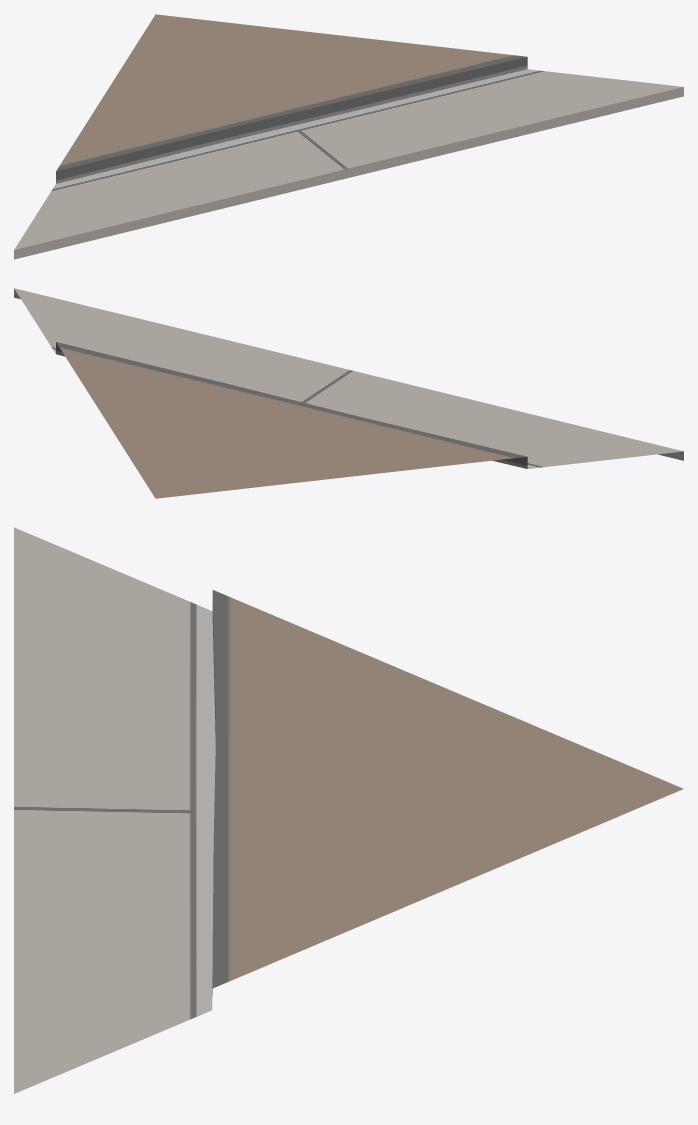
Rendered from island_45_mesh.fbx.
The picture shows the model from 3 angles, top to bottom: view 1: azimuth 30°, elevation 25°; view 2: azimuth 150°, elevation 25°; view 3: azimuth 270°, elevation 25°; orthographic projection. The views are drawn at different scales.
Parts seen in each view (by area): view 1: _mesh_45; view 2: _mesh_45; view 3: _mesh_45.
Part boxes in pixels (bbox=[...]): _mesh_45: bbox=[14, 14, 683, 259]; _mesh_45: bbox=[14, 288, 683, 498]; _mesh_45: bbox=[14, 527, 683, 1093].
Size of the model in its own units: 14.33 by 0.4549 by 7.17.
